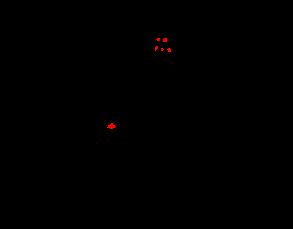Target: (107, 123, 116, 129), (163, 38, 167, 42), (167, 48, 171, 52), (155, 46, 158, 51), (156, 38, 160, 41), (161, 48, 164, 51)
